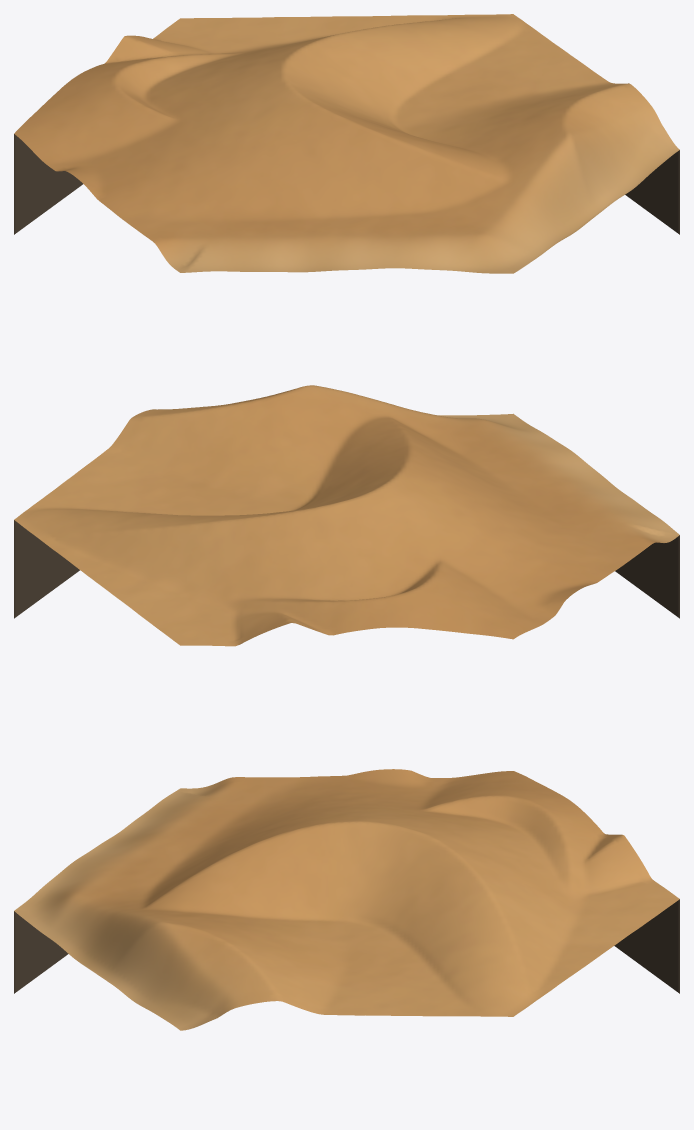
3 renders of one model, top to bottom at view 1: azimuth 30°, elevation 25°; view 2: azimuth 150°, elevation 25°; view 3: azimuth 270°, elevation 25°, orthographic.
Visible parts, largest first — view 1: terrain, hex_side_cut; view 2: terrain, hex_side_cut; view 3: terrain, hex_side_cut.
Part boxes in pixels (x1,y1,x2,y2): terrain: (14, 14, 679, 273); hex_side_cut: (14, 134, 679, 234); terrain: (14, 385, 679, 646); hex_side_cut: (14, 520, 679, 618); terrain: (14, 769, 679, 1030); hex_side_cut: (14, 899, 679, 993).
Size of the model in its own units: 4330 by 1243 by 5000.
